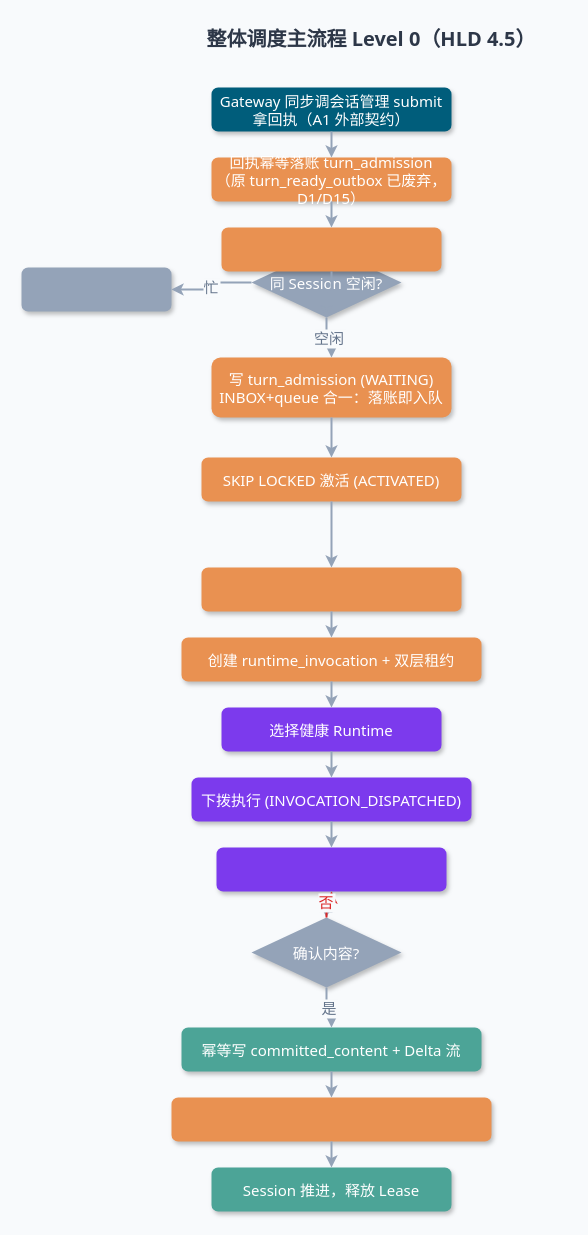
Image size: 588x1235. Some labels were removed from this diagram. Each missing label, with the centre of its shape:
Runtime 持续回报事件: pixel 332 870
冻结 ContextSnapshot / Spec: pixel 332 590
同步回执幂等去重（D15）: pixel 332 250
完成判定（COMPLETED / FAILED / CANCELLED）: pixel 332 1120
等待 Lease 释放: pixel 97 290
